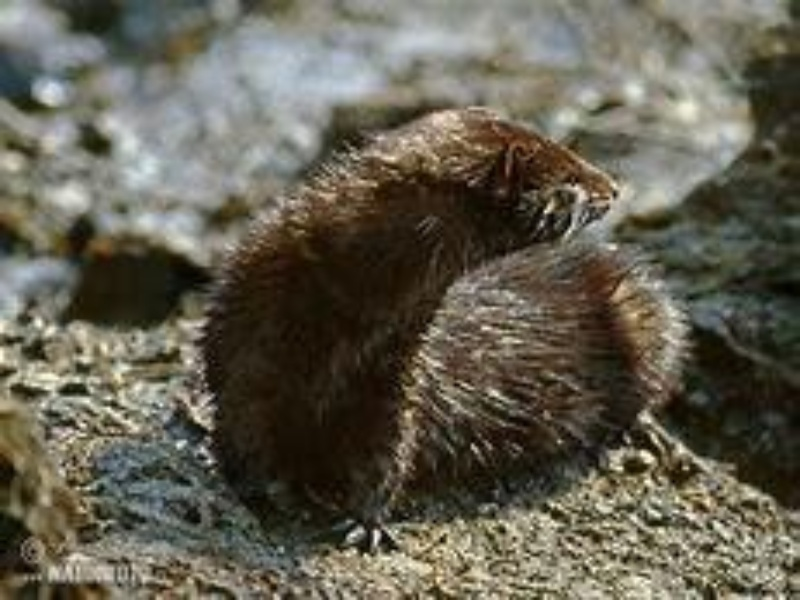minkish: (193, 92, 696, 564)
